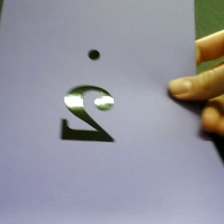violet2: (53, 46, 122, 148)
